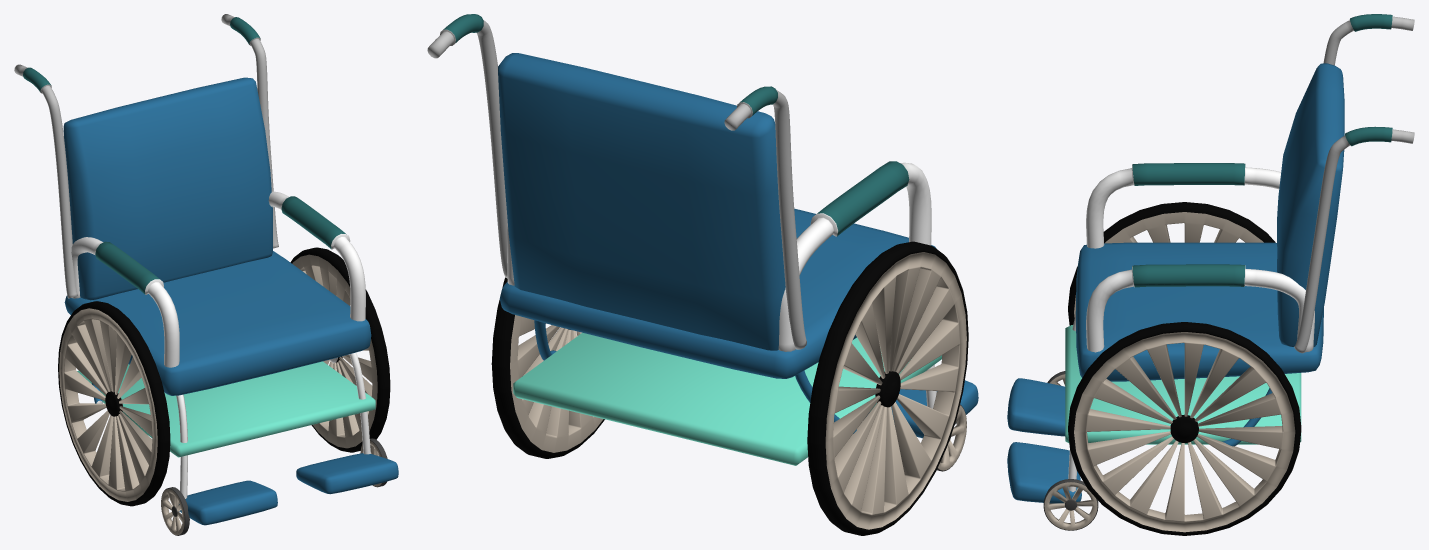
File: wheelchair.fbx
3 views of the same model, side by side, from view 1: azimuth 30°, elevation 25°; view 2: azimuth 150°, elevation 25°; view 3: azimuth 270°, elevation 25° (orthographic). The views are drawn at different scales.
Visible parts, largest first — view 1: Chair Base, wheel2.001, wheel2, Wheels_front; view 2: Chair Base, wheel2.001, wheel2, Wheels_front; view 3: Chair Base, wheel2, wheel2.001, Wheels_front.
Boxes of the visible parts, bbox=[...] form: Chair Base: bbox=[14, 14, 398, 525]; wheel2.001: bbox=[58, 301, 170, 506]; wheel2: bbox=[290, 247, 390, 452]; Wheels_front: bbox=[161, 438, 387, 535]; Chair Base: bbox=[427, 14, 978, 465]; wheel2.001: bbox=[807, 241, 968, 535]; wheel2: bbox=[491, 277, 604, 458]; Wheels_front: bbox=[937, 404, 966, 471]; Chair Base: bbox=[1007, 14, 1414, 503]; wheel2: bbox=[1068, 322, 1301, 535]; wheel2.001: bbox=[1068, 202, 1275, 325]; Wheels_front: bbox=[1043, 371, 1098, 530].
Bounding box in the file's own units: 82.28 × 123 × 112.
Materials: 1 (1 with a texture image).
